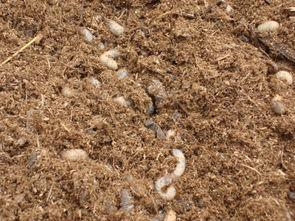grub: (153, 147, 188, 203)
